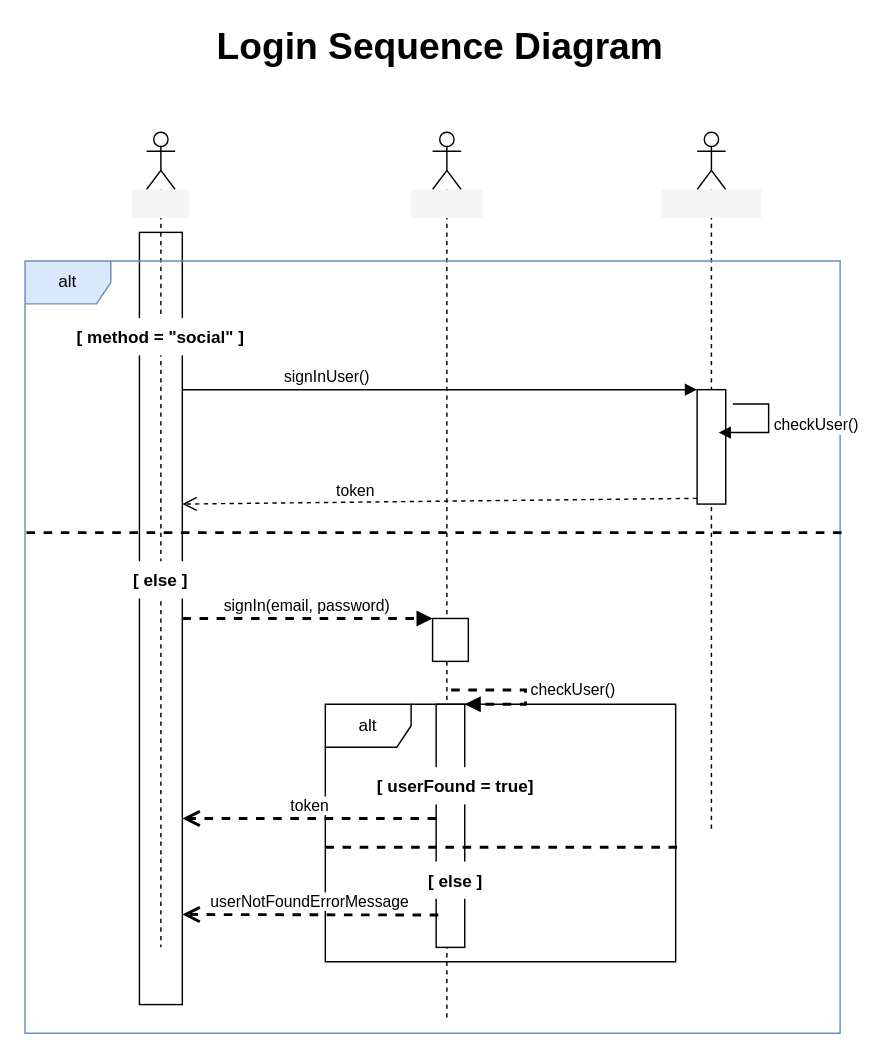
Image size: 884x1058. Some labels were removed from this diagram. The shapes that lost their labels are listed below. From the top down, each one's centre as x and y in pixels, then its label:
At point 160,203: "User".
At point 446,203: "Server".
At point 711,203: "Login API".
